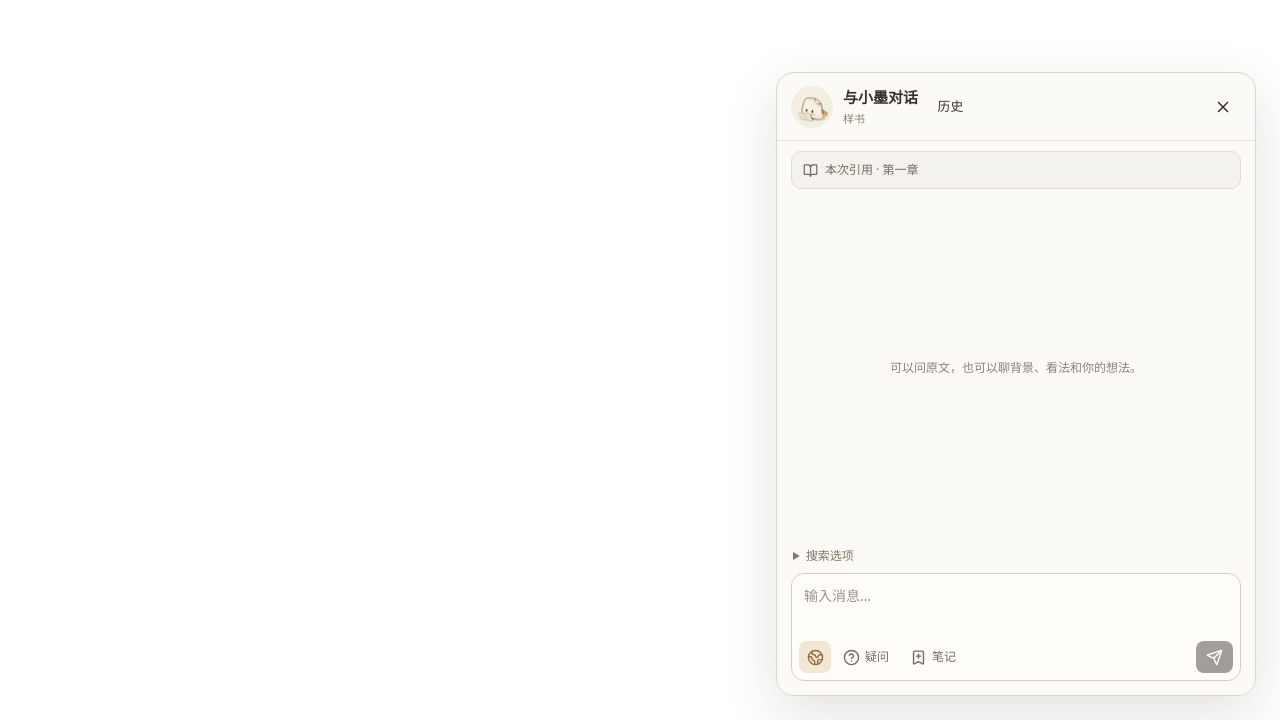
Test: 小墨浮动对话 › keeps follow-up turns in the same conversation
In the text box labelled "输入消息": [1016, 605] box [792,574,1240,636], type "我认为作者要求先了解问题。"
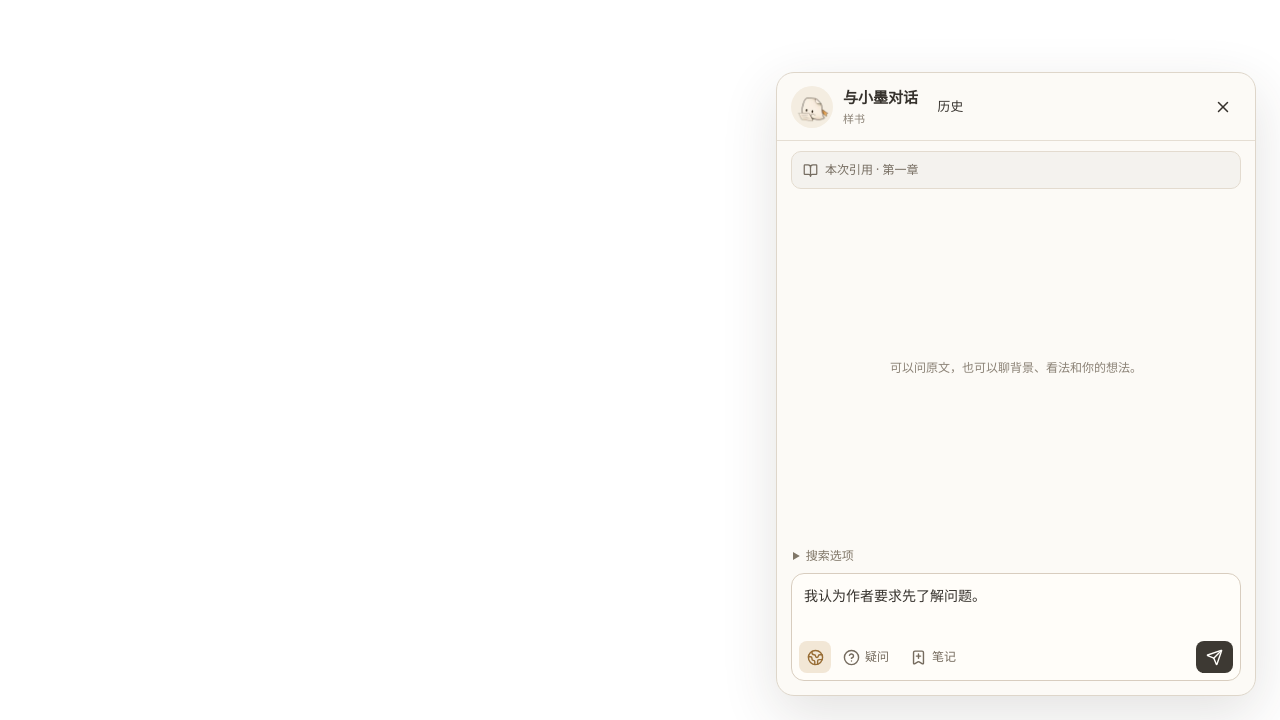
Click the button named "发送": [1214, 657] box [1196,641,1233,673]
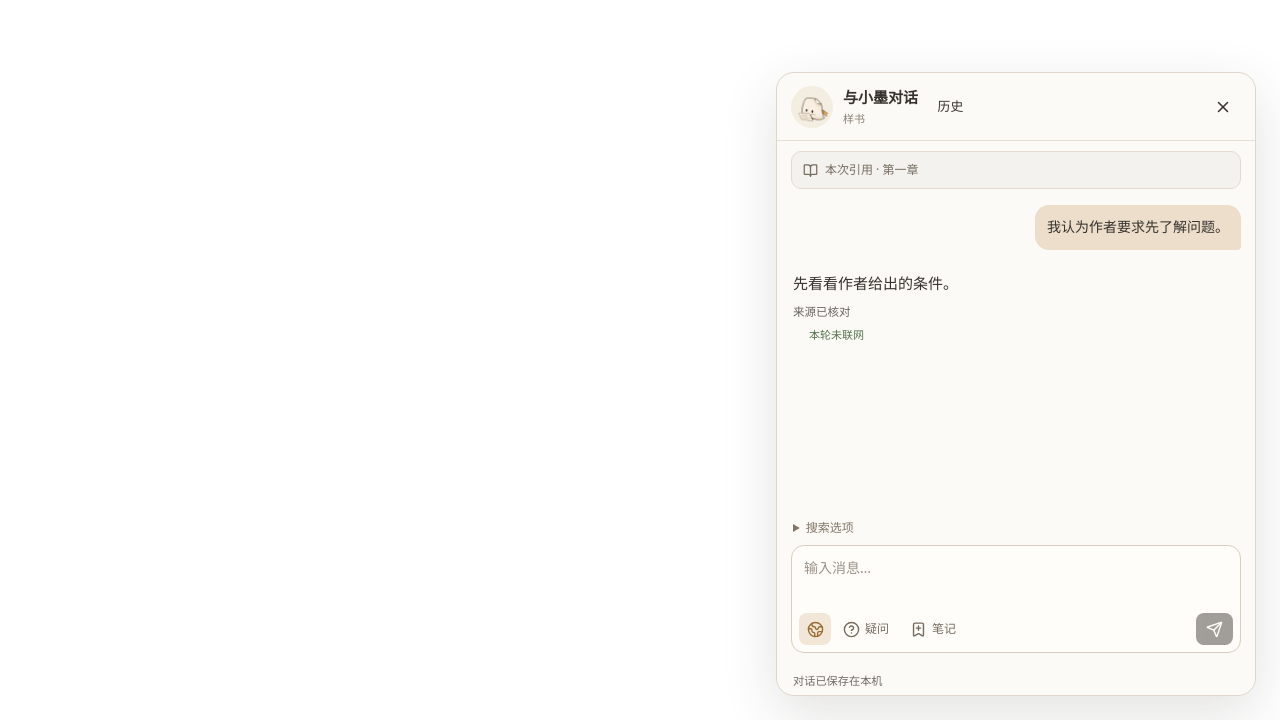
Result: the text "我认为作者要求先了解问题。" is shown at [1047,215,1229,240]
Result: the text "先看看作者给出的条件。" is shown at [793,270,958,296]
In the text box labelled "输入消息": [1016, 577] box [792,546,1240,608], type "这个条件在哪里？"
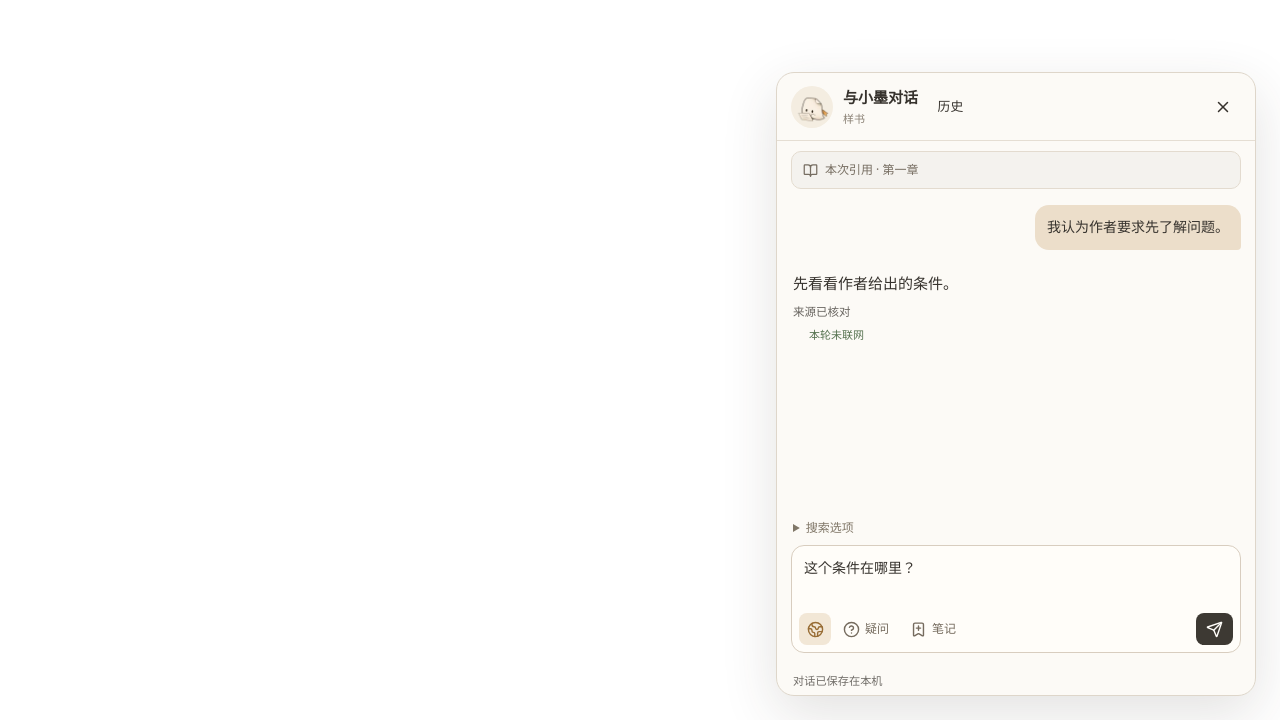
Click the button named "发送": [1214, 629] box [1196,613,1233,645]
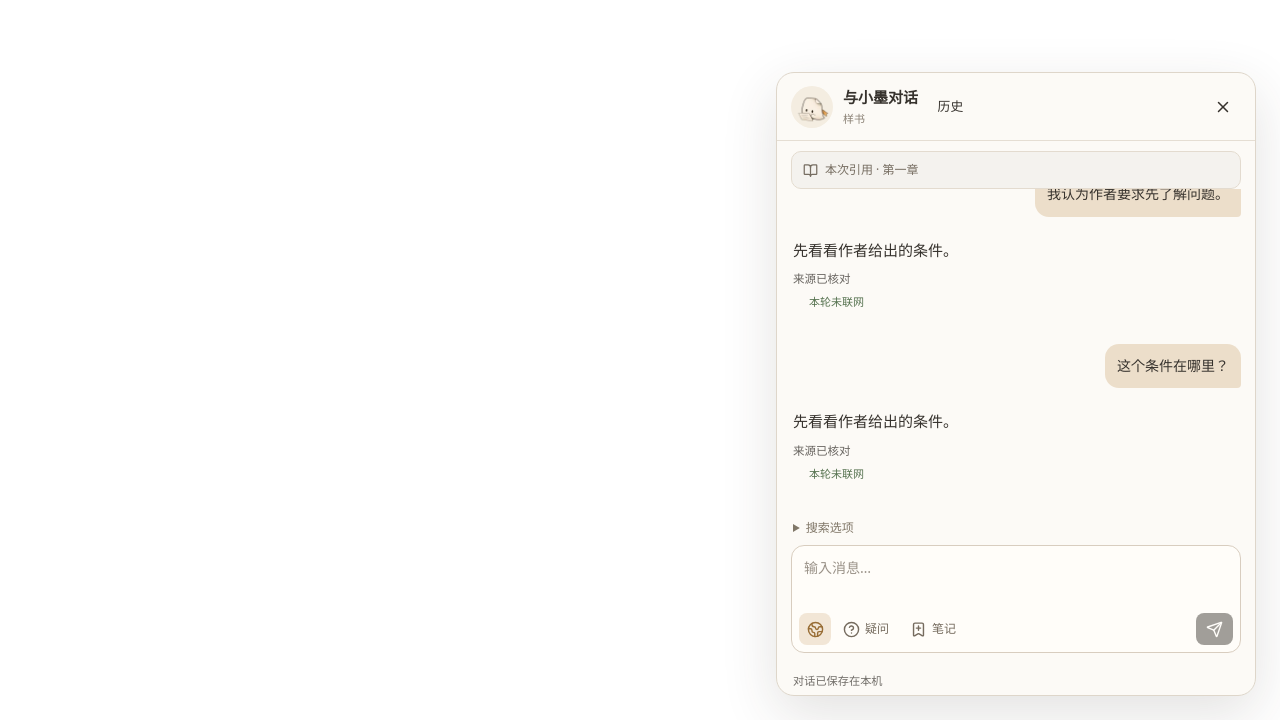
Result: the text "这个条件在哪里？" is shown at [1117,354,1229,378]
